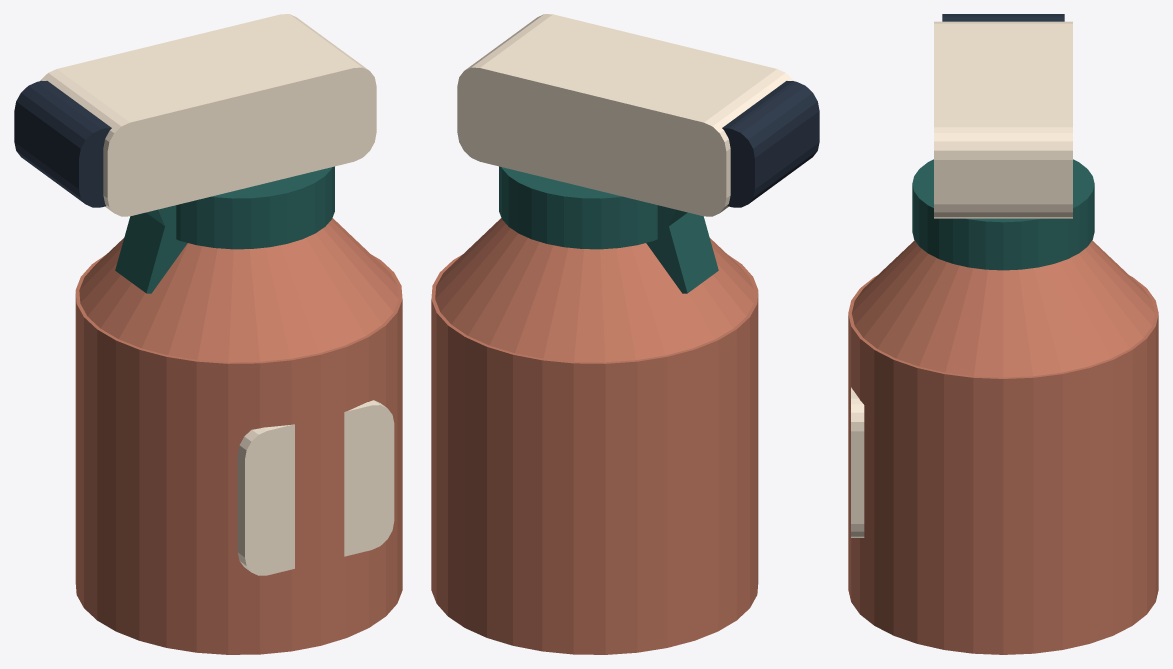
File: lensbottle.glb
3 views of the same model, side by side, from view 1: azimuth 30°, elevation 25°; view 2: azimuth 150°, elevation 25°; view 3: azimuth 270°, elevation 25° (orthographic). The views are drawn at different scales.
Visible parts, largest first — view 1: bottle, sprayer, shoulder, label, collar, nozzle, trigger; view 2: bottle, sprayer, shoulder, collar, nozzle, trigger; view 3: bottle, shoulder, sprayer, collar, label, nozzle.
Part boxes in pixels (bbox=[...]): bottle: bbox=[75, 255, 402, 654]; sprayer: bbox=[40, 14, 376, 216]; shoulder: bbox=[79, 218, 398, 362]; label: bbox=[237, 400, 394, 575]; collar: bbox=[176, 166, 334, 249]; nozzle: bbox=[14, 81, 111, 207]; trigger: bbox=[115, 205, 187, 293]; bottle: bbox=[431, 255, 758, 654]; sprayer: bbox=[457, 14, 793, 216]; shoulder: bbox=[435, 218, 754, 362]; collar: bbox=[499, 166, 657, 249]; nozzle: bbox=[722, 81, 819, 207]; trigger: bbox=[646, 205, 718, 293]; bottle: bbox=[848, 276, 1158, 654]; shoulder: bbox=[851, 240, 1155, 377]; sprayer: bbox=[934, 21, 1072, 218]; collar: bbox=[912, 159, 1094, 270]; label: bbox=[851, 387, 864, 537]; nozzle: bbox=[942, 14, 1064, 21].
Size of the model in its own units: 0.895 by 1.34 by 0.76.
